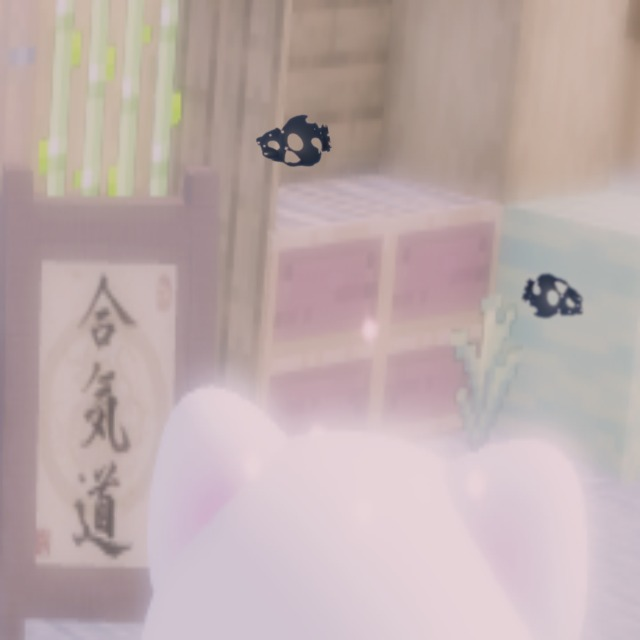urso_preto: (247, 105, 335, 179), (518, 267, 594, 332)
